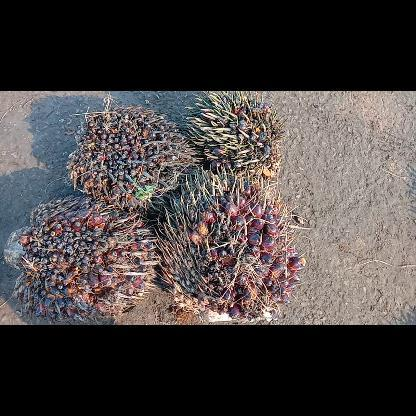TBS abnormal: (2, 193, 160, 323), (66, 103, 202, 214), (182, 92, 286, 182)
TBS masak: (152, 160, 307, 324)
